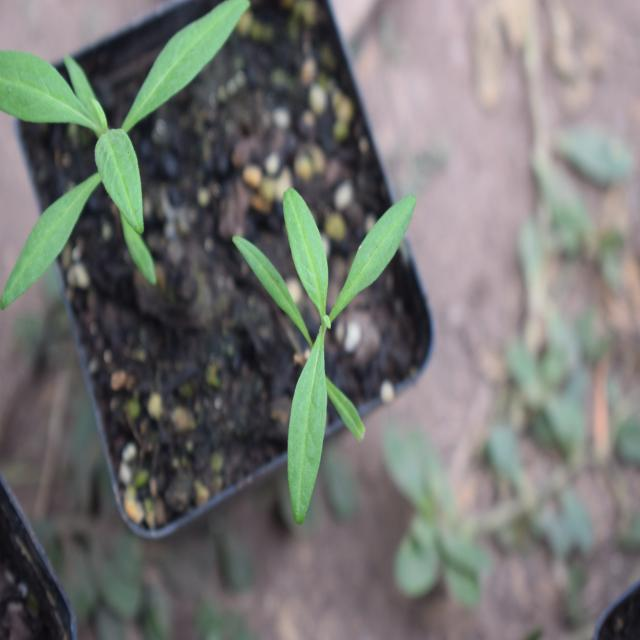white_smart_weed: (220, 179, 471, 517), (6, 0, 265, 288)
